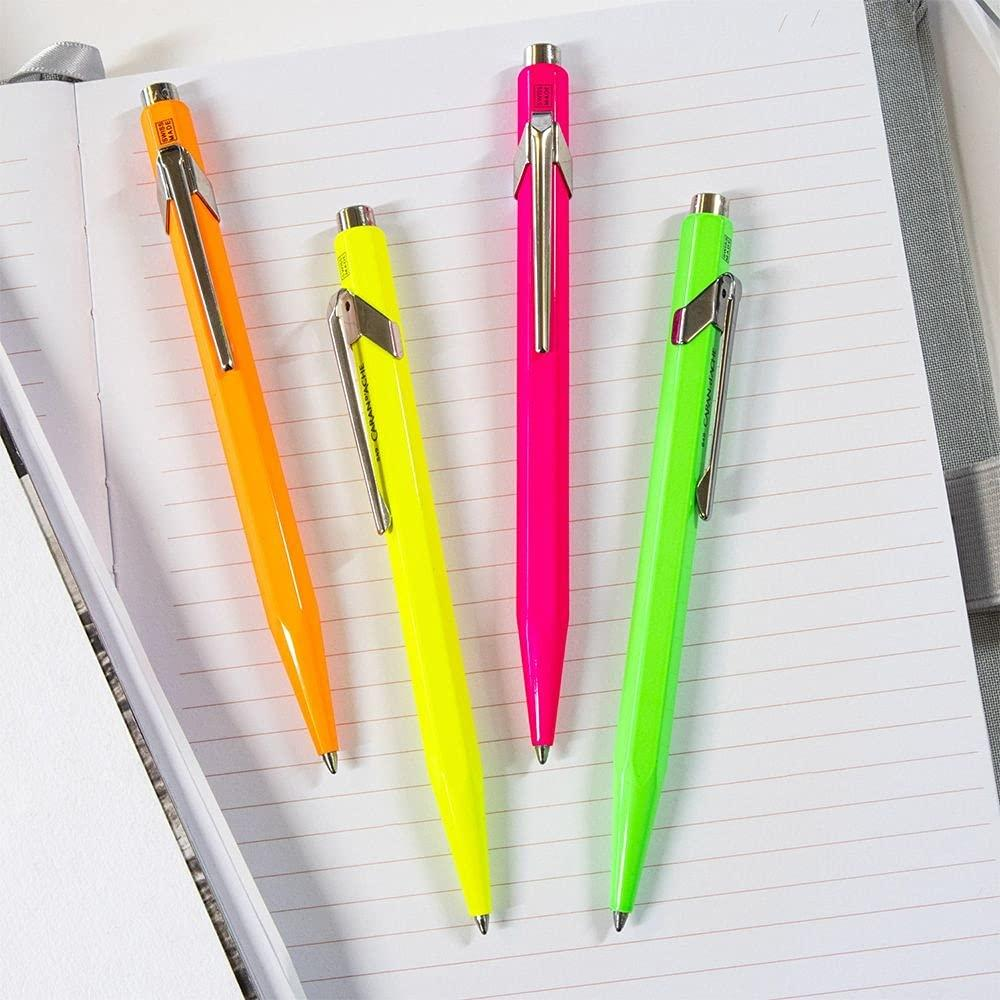Ballpen: (141, 82, 338, 774), (328, 204, 492, 934), (610, 193, 741, 931), (513, 43, 572, 763)
